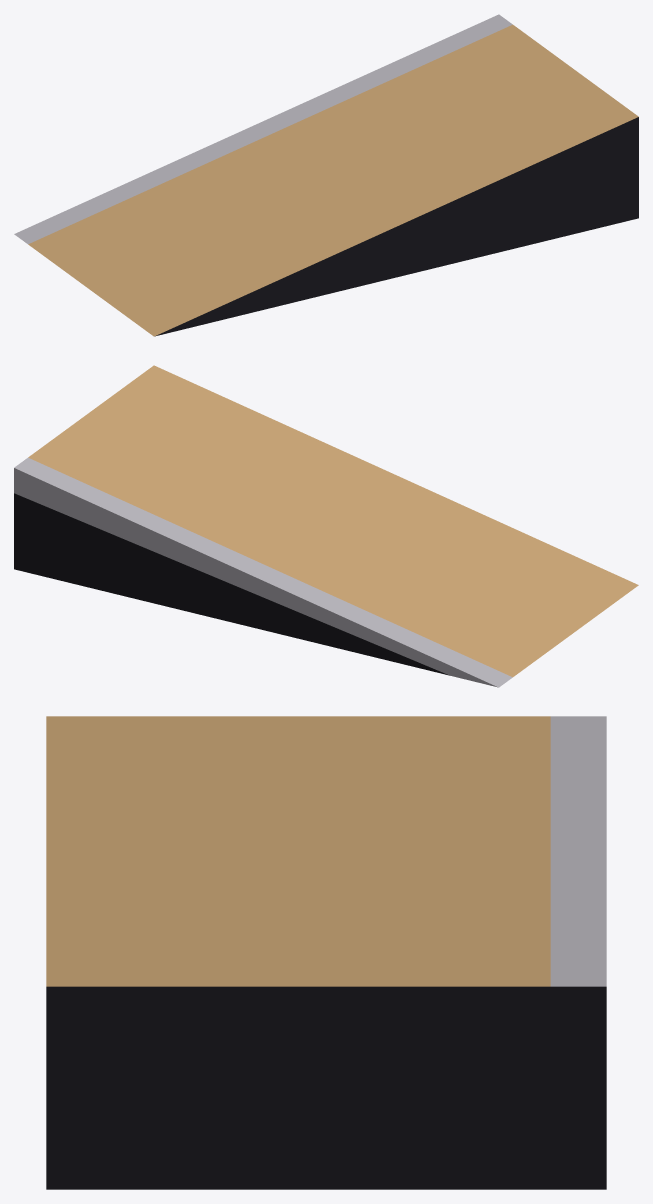
Rendered from Ramp_Half_2_Left.fbx.
The picture shows the model from 3 angles, top to bottom: view 1: azimuth 30°, elevation 25°; view 2: azimuth 150°, elevation 25°; view 3: azimuth 270°, elevation 25°; orthographic projection. The views are drawn at different scales.
Parts seen in each view (by area): view 1: Ramp_Half_2_Left; view 2: Ramp_Half_2_Left; view 3: Ramp_Half_2_Left.
Boxes of the visible parts, bbox=[...] form: Ramp_Half_2_Left: bbox=[14, 14, 638, 336]; Ramp_Half_2_Left: bbox=[14, 365, 638, 687]; Ramp_Half_2_Left: bbox=[46, 716, 606, 1189].
Size of the model in its own units: 10 by 2 by 5.
